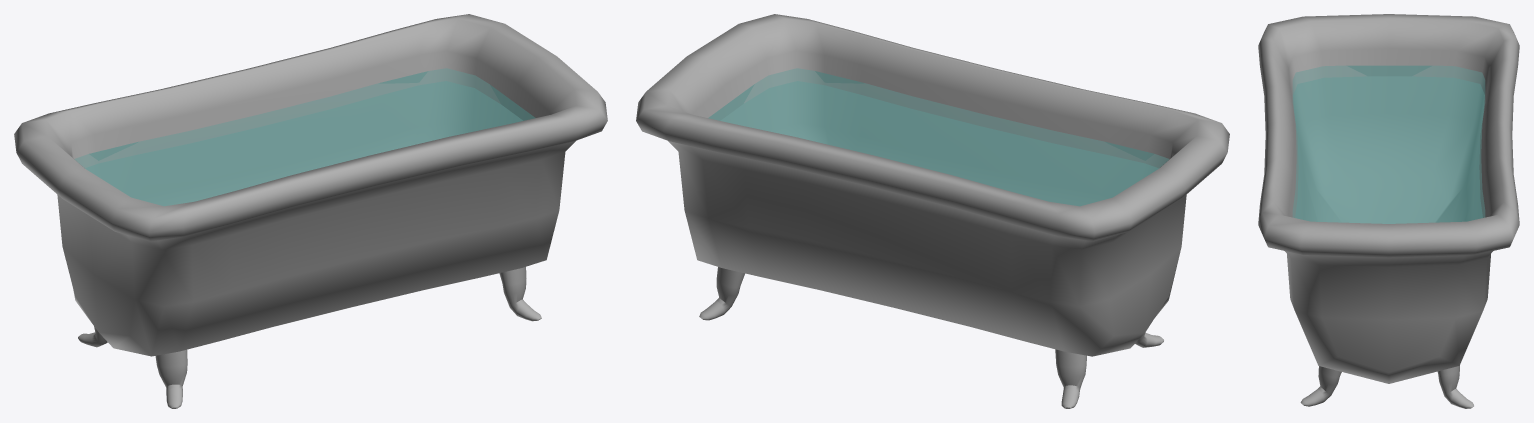
File: Bathtub.fbx
The picture shows the model from 3 angles, left to right: view 1: azimuth 30°, elevation 25°; view 2: azimuth 150°, elevation 25°; view 3: azimuth 270°, elevation 25°; orthographic projection. The views are drawn at different scales.
Parts seen in each view (by area): view 1: pCube2, pCube3; view 2: pCube2, pCube3; view 3: pCube2, pCube3.
Boxes of the visible parts, left/top/right/bottom form: pCube2: left=14, top=14, right=607, bottom=408; pCube3: left=75, top=68, right=534, bottom=206; pCube2: left=636, top=14, right=1229, bottom=408; pCube3: left=708, top=68, right=1168, bottom=206; pCube2: left=1258, top=14, right=1519, bottom=408; pCube3: left=1293, top=65, right=1484, bottom=223.
Size of the model in its own units: 18.37 by 7.66 by 8.91.
